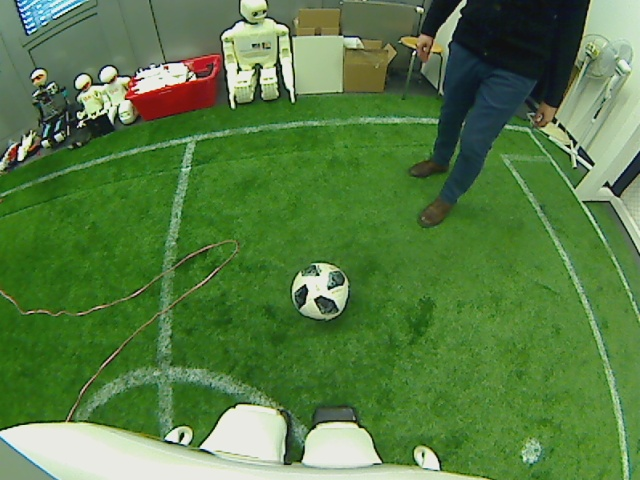ball: (291, 259, 350, 323)
